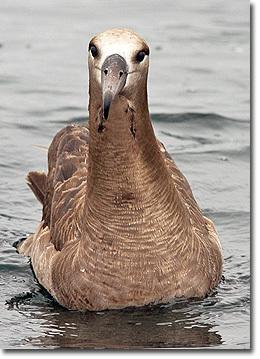001.Black_footed_Albatross: (16, 24, 222, 313)
